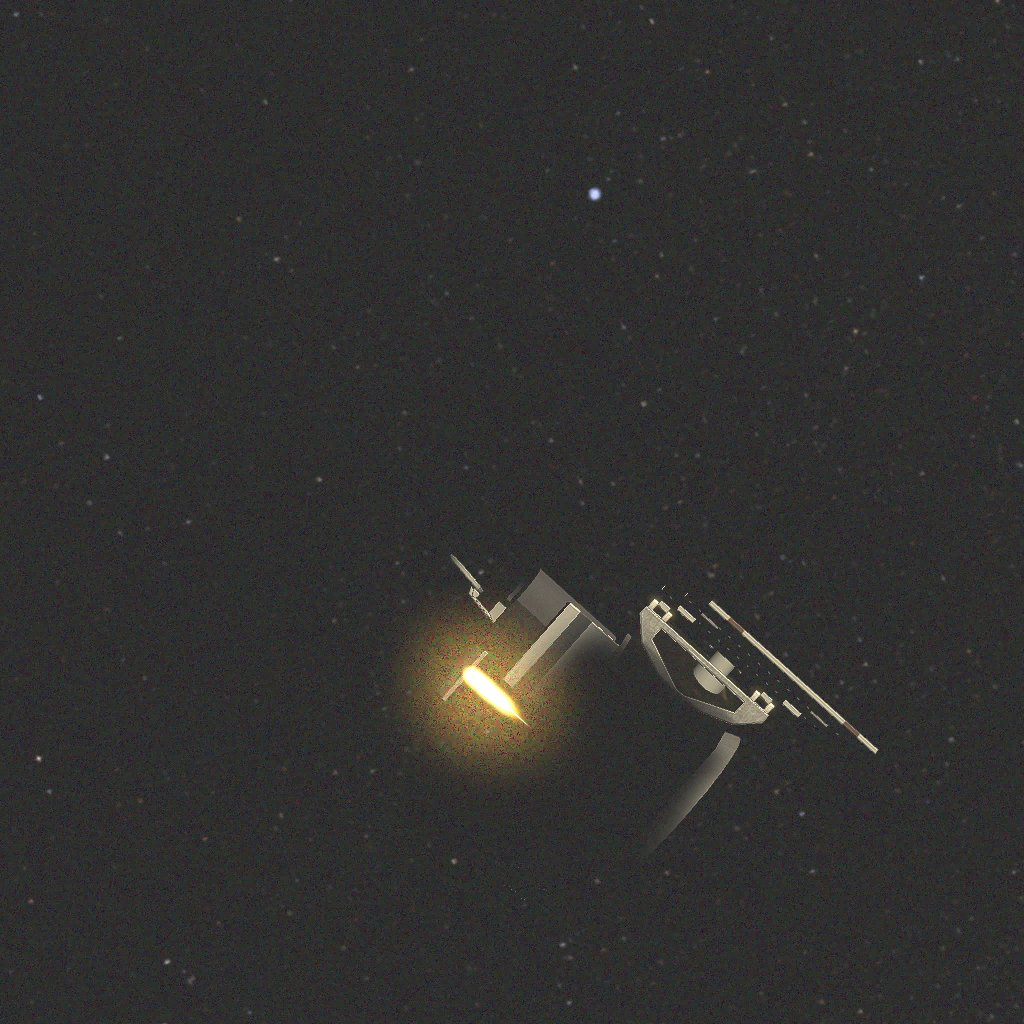earth_observation_sat_1: (432, 554, 878, 911)
